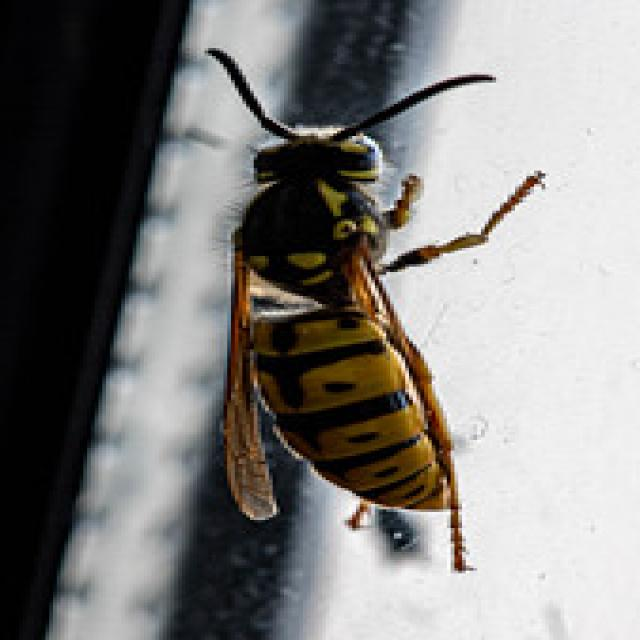Guepe: (164, 26, 548, 580)
